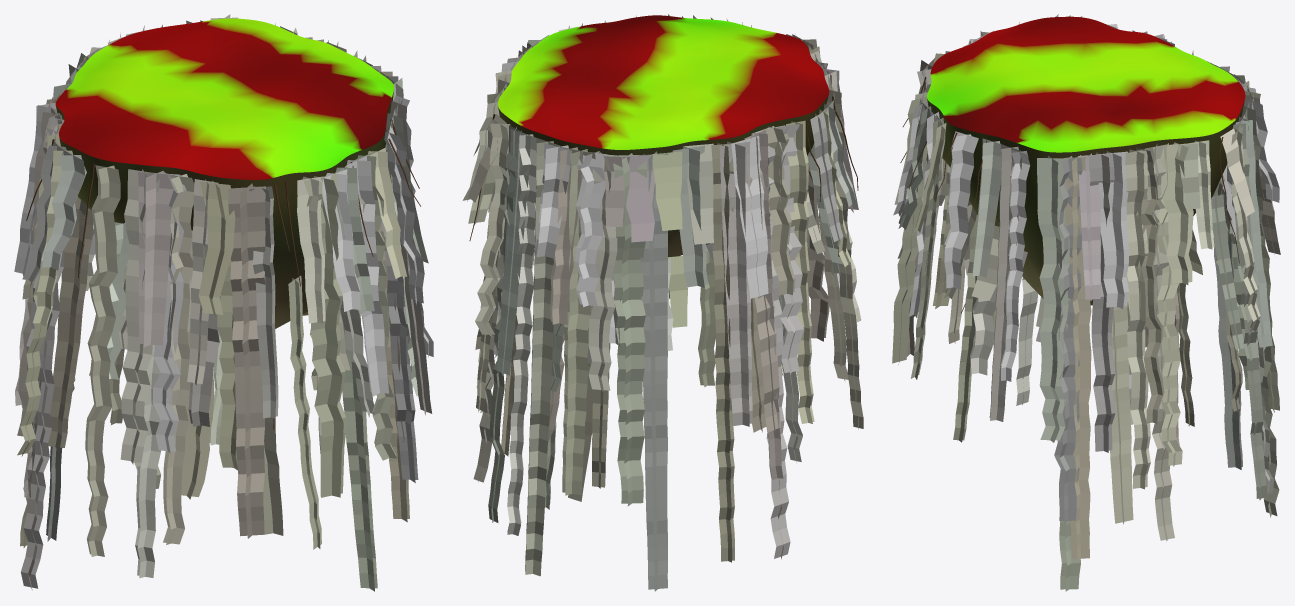
File: SM_H12_Floater07.fbx
The picture shows the model from 3 angles, left to right: view 1: azimuth 30°, elevation 25°; view 2: azimuth 150°, elevation 25°; view 3: azimuth 270°, elevation 25°; orthographic projection. The views are drawn at different scales.
Visible parts, largest first — view 1: SM_H12_Floater07_Ivy, SM_H12_Floater07; view 2: SM_H12_Floater07_Ivy, SM_H12_Floater07; view 3: SM_H12_Floater07_Ivy, SM_H12_Floater07.
Boxes of the visible parts, box(x1,y1,x2,y2) form: SM_H12_Floater07_Ivy: box(14, 14, 433, 591); SM_H12_Floater07: box(55, 18, 393, 328); SM_H12_Floater07_Ivy: box(462, 14, 863, 591); SM_H12_Floater07: box(498, 15, 829, 257); SM_H12_Floater07_Ivy: box(892, 14, 1280, 591); SM_H12_Floater07: box(927, 16, 1245, 305).
Size of the model in its own units: 25.3 by 33.11 by 25.64.
